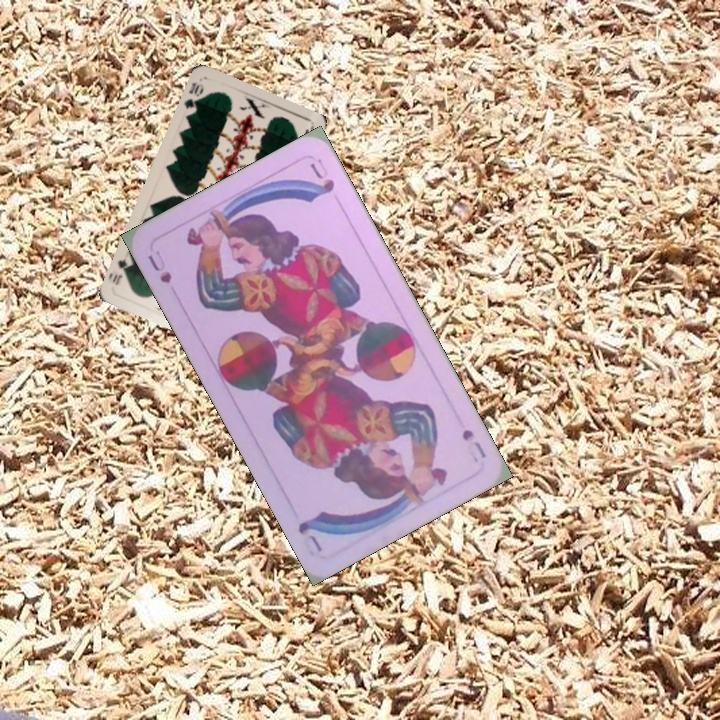G10: (180, 78, 207, 117)
SU: (143, 245, 174, 286), (458, 424, 489, 461)
